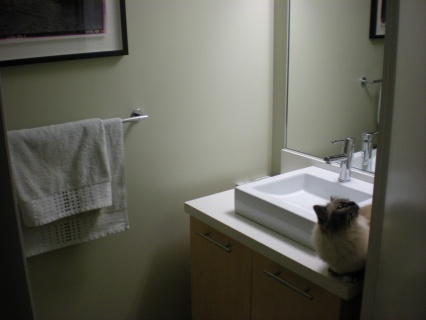Cat: (306, 194, 369, 285)
